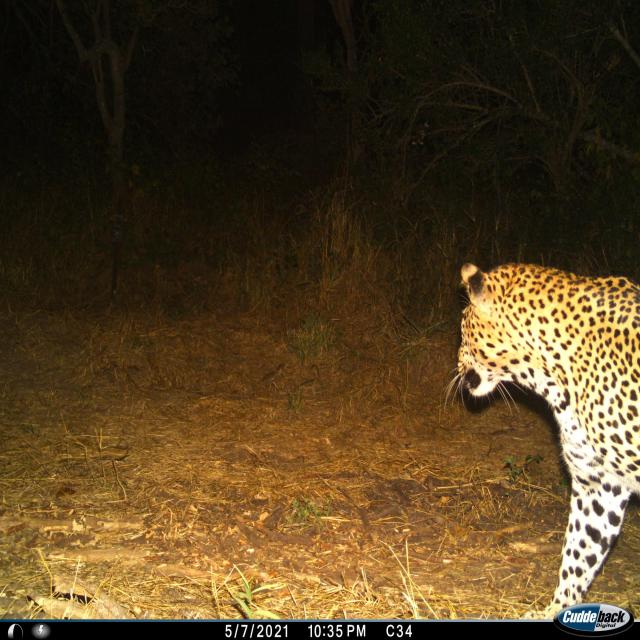Leopard: (454, 270, 639, 622)
